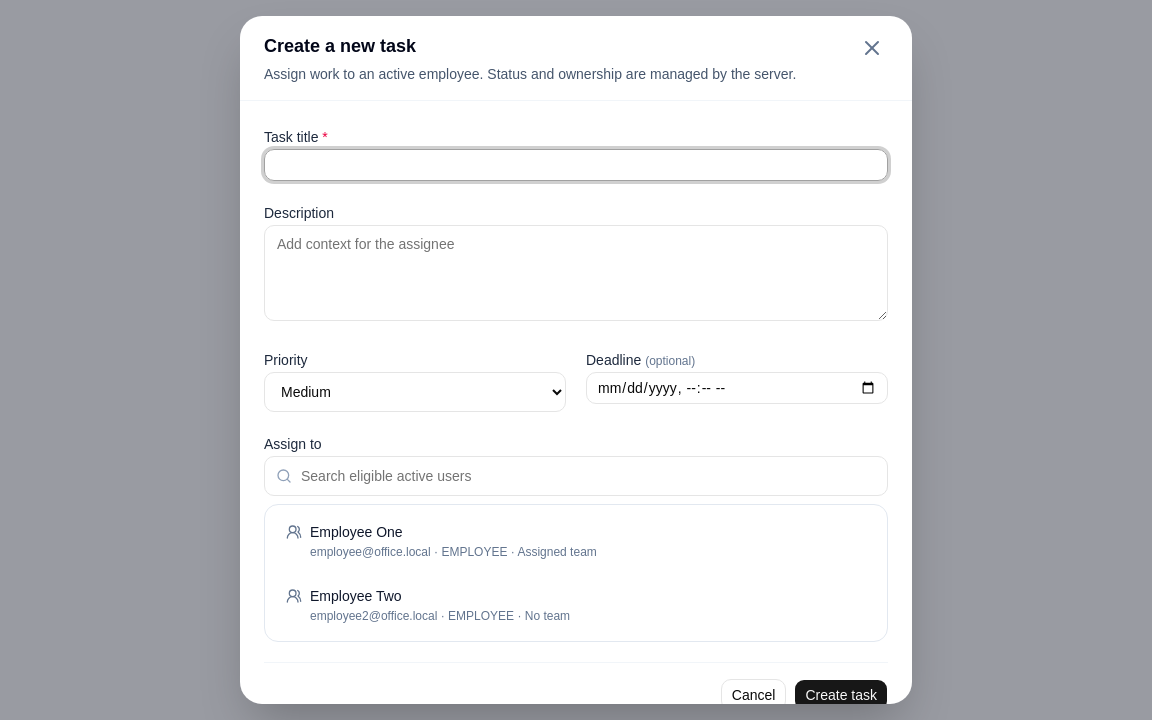
Test: task mutation components › preserves form values after a failed create
Type "Keep this value" into the field labelled "Task title *" at (576, 165), box top-left (264, 149), bottom-right (888, 181)
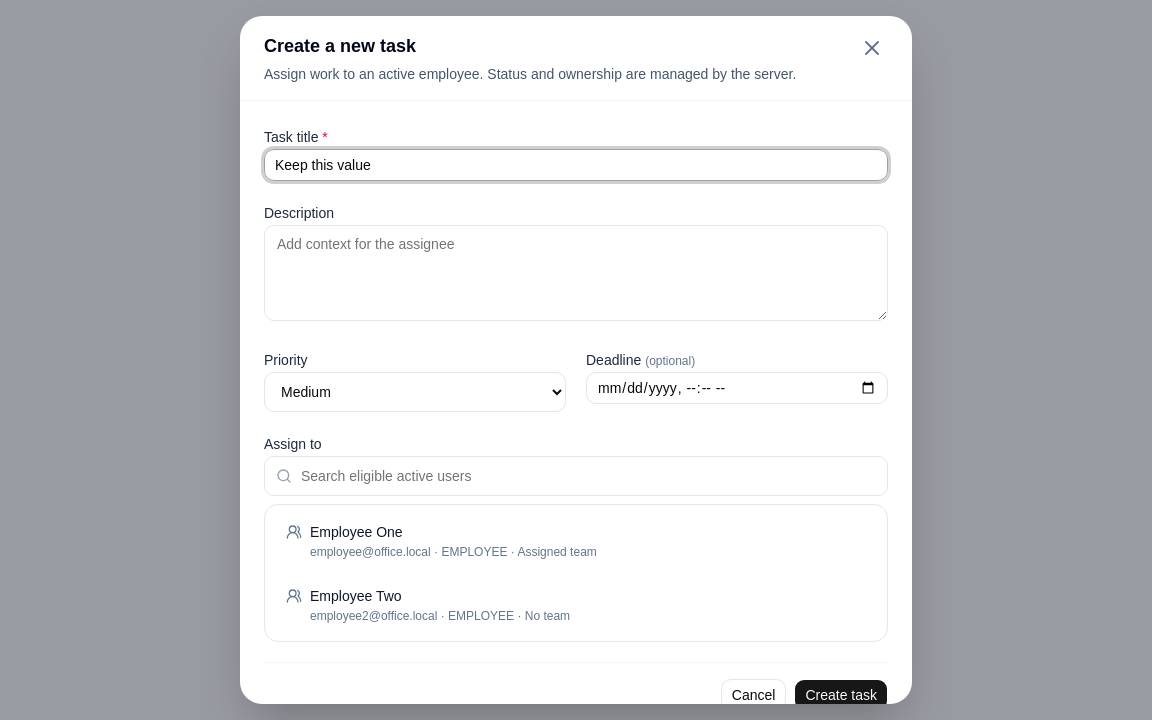
Click the option "Employee One" at (356, 532), box top-left (273, 513), bottom-right (879, 569)
(page scrolled)
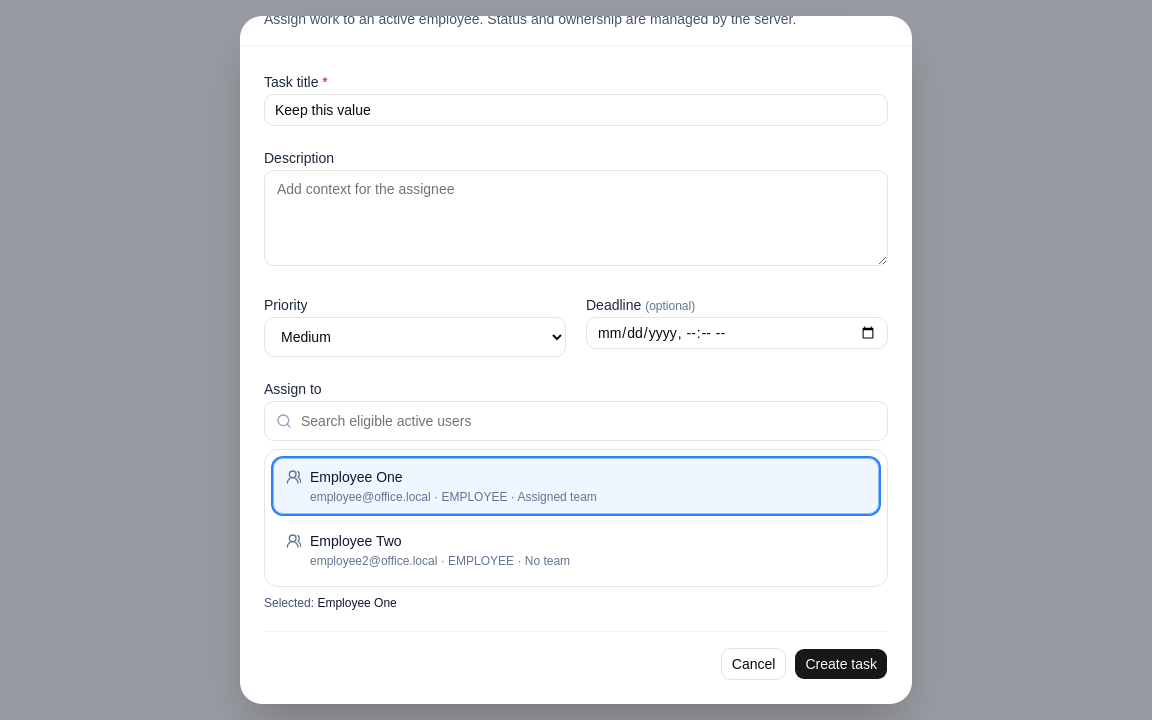
Click the button "Create task" at (841, 664), box top-left (794, 648), bottom-right (888, 680)
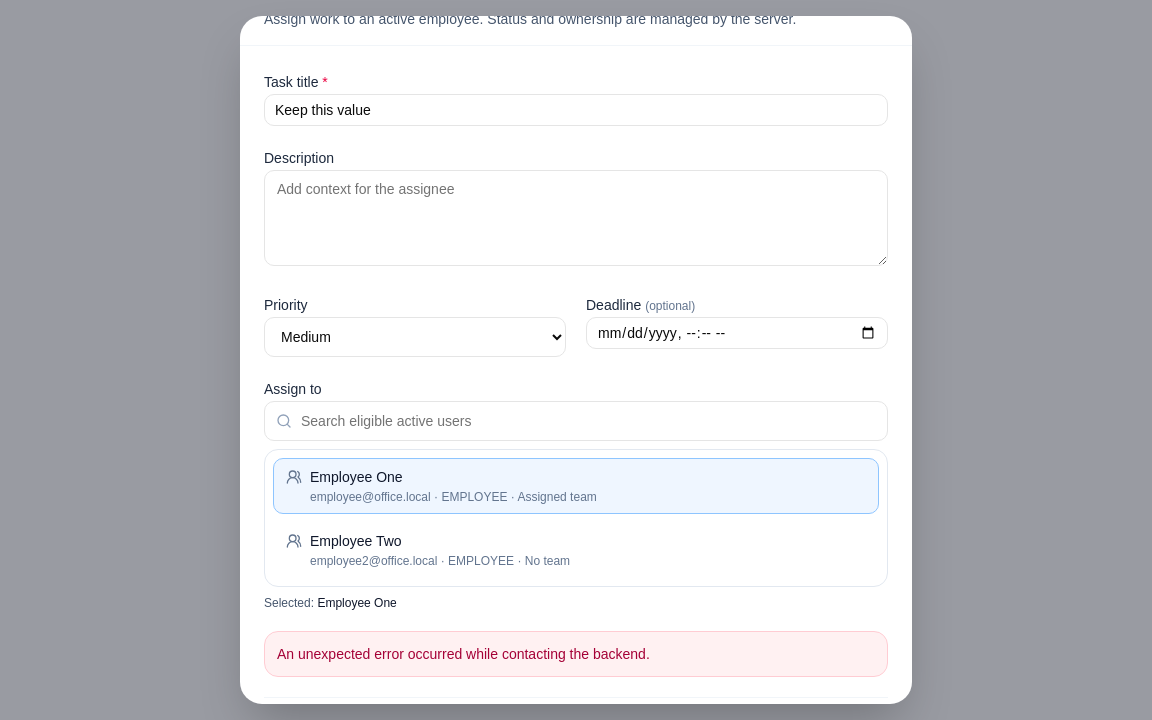
expect the message shows "An unexpected error occurred": met, box top-left (277, 646), bottom-right (650, 662)
